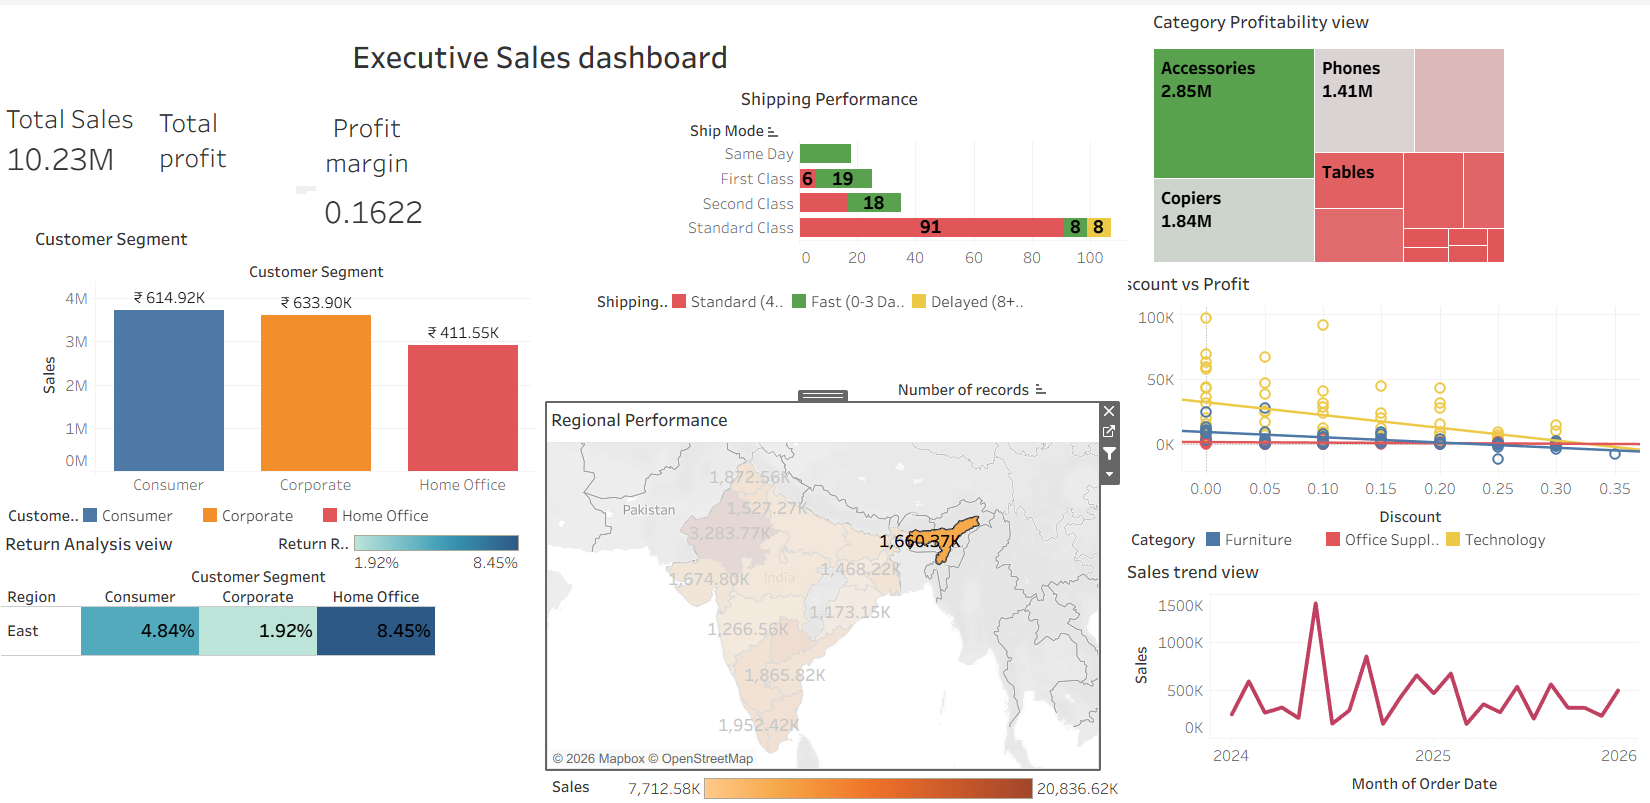

The page's visual inventory and layout, read from the dashboard file:
{"tool":"tableau","page":{"name":"Executive Sales dashboard","canvas":[1000,1000],"units":"permille","ordinal":0},"visuals":[{"type":"worksheet","title":"Category Profitability view","mark":"Automatic","box":[697,0,302.4,327.1]},{"type":"title","box":[4.8,10,990.3,106.1]},{"type":"worksheet","title":"Shipping Performance","mark":"Automatic","rows":["ship_mode"],"cols":["Calculation_1255660497924103"],"box":[324.1,96.1,360.3,405.7]},{"type":"worksheet","title":"Total Sales","mark":"Automatic","box":[4.8,114.9,98.4,118.6]},{"type":"worksheet","title":"Total profit","mark":"Automatic","box":[97.2,119.9,104.4,116.1]},{"type":"worksheet","title":"Profit margin","mark":"Automatic","box":[188.9,126.1,94.8,161.1]},{"type":"worksheet","title":"Customer Segment","mark":"Automatic","rows":["sales"],"cols":["customer_segment"],"box":[22.3,270.9,305.4,342.1]},{"type":"worksheet","title":"Discount vs Profit","mark":"Automatic","rows":["profit"],"cols":["discount"],"box":[669.3,327.1,324.1,333.3]},{"type":"legend","title":"Shipping Performance","param":"[federated.0z0as7z01bxado13thge306664ue].[none:Calculation_1255660486029316:nk]","box":[363.9,357.1,306.6,26.2]},{"type":"worksheet","title":"Regional Performance","mark":"Automatic","box":[333.7,496.9,333.1,456.9]},{"type":"legend","title":"Customer Segment","param":"[federated.0z0as7z01bxado13thge306664ue].[none:customer_segment:nk]","box":[8.4,624.2,293.9,44.9]},{"type":"worksheet","title":"Return Analysis veiw","mark":"Square","rows":["region"],"cols":["customer_segment"],"box":[4.2,651.7,325.3,347.1]},{"type":"legend","title":"Discount vs Profit","param":"[federated.0z0as7z01bxado13thge306664ue].[none:category:nk]","box":[686.2,654.2,264.3,25]},{"type":"legend","title":"Return Analysis veiw","param":"[federated.0z0as7z01bxado13thge306664ue].[usr:Return Rate (copy)_125566050623898","box":[171.4,656.7,147.9,54.9]},{"type":"worksheet","title":"Sales trend view","mark":"Line","rows":["sales"],"cols":["order_date"],"box":[681.4,686.6,311.4,307.1]},{"type":"legend","title":"Regional Performance","param":"[federated.0z0as7z01bxado13thge306664ue].[sum:sales:qk]","box":[336.8,960.1,344.6,31.2]}]}

Visuals, with their boxes on the dashboard's canvas, which has no fixed pixel size, in thousandths of its width and height (x1, y1, x2, y2). These are canvas units, not pixel positions in the 1650x803 screenshot, which may show the page scaled, cropped or inside an application window:
"Category Profitability view" worksheet: box(697, 0, 999, 327)
title: box(5, 10, 995, 116)
"Shipping Performance" worksheet: box(324, 96, 684, 502)
"Total Sales" worksheet: box(5, 115, 103, 234)
"Total profit" worksheet: box(97, 120, 202, 236)
"Profit margin" worksheet: box(189, 126, 284, 287)
"Customer Segment" worksheet: box(22, 271, 328, 613)
"Discount vs Profit" worksheet: box(669, 327, 993, 660)
"Shipping Performance" legend: box(364, 357, 670, 383)
"Regional Performance" worksheet: box(334, 497, 667, 954)
"Customer Segment" legend: box(8, 624, 302, 669)
"Return Analysis veiw" worksheet (Square marks): box(4, 652, 330, 999)
"Discount vs Profit" legend: box(686, 654, 950, 679)
"Return Analysis veiw" legend: box(171, 657, 319, 712)
"Sales trend view" worksheet (Line marks): box(681, 687, 993, 994)
"Regional Performance" legend: box(337, 960, 681, 991)
